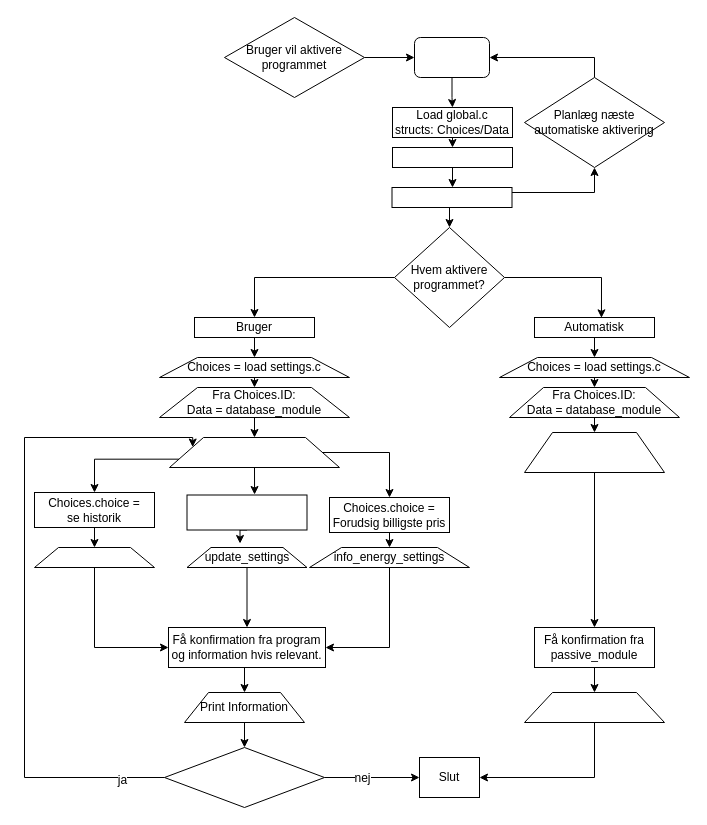
The diagram is 707 pixels wide and 825 high, and some of its shapes have lost their labels. The shapes that lost their labels are listed below. From the top down, each one's centre as x and y in pixels, then its label:
At (452,57): "Programmet Aktiveres".
At (452,157): "Load language.c".
At (451,197): "Load settings.txt".
At (254,452): "Choices = promt_user".
At (594,452): "Send data til: passive_module".
At (246,512): "Choices.choice = opdater settings".
At (94,557): "user_history".
At (594,707): "Log konfirmation i user_history".
At (244,777): "ønskes ny kommando?".
